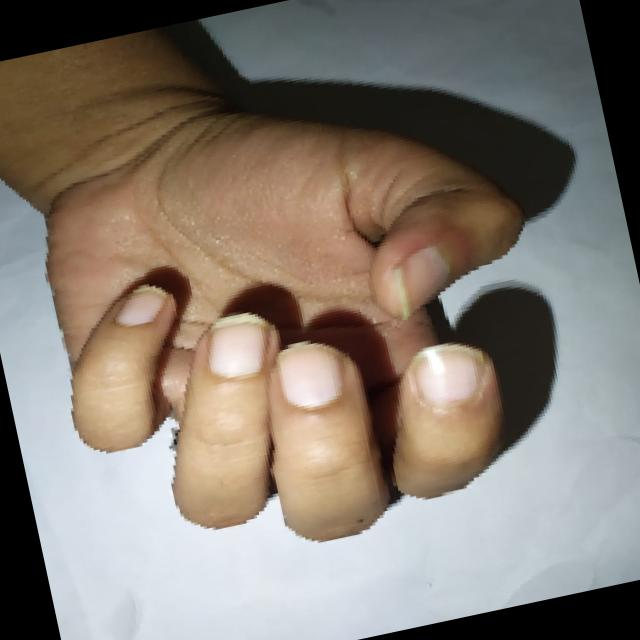Nail: (412, 343, 485, 406), (276, 341, 342, 409), (208, 312, 268, 378), (393, 246, 449, 316), (118, 286, 168, 326)
